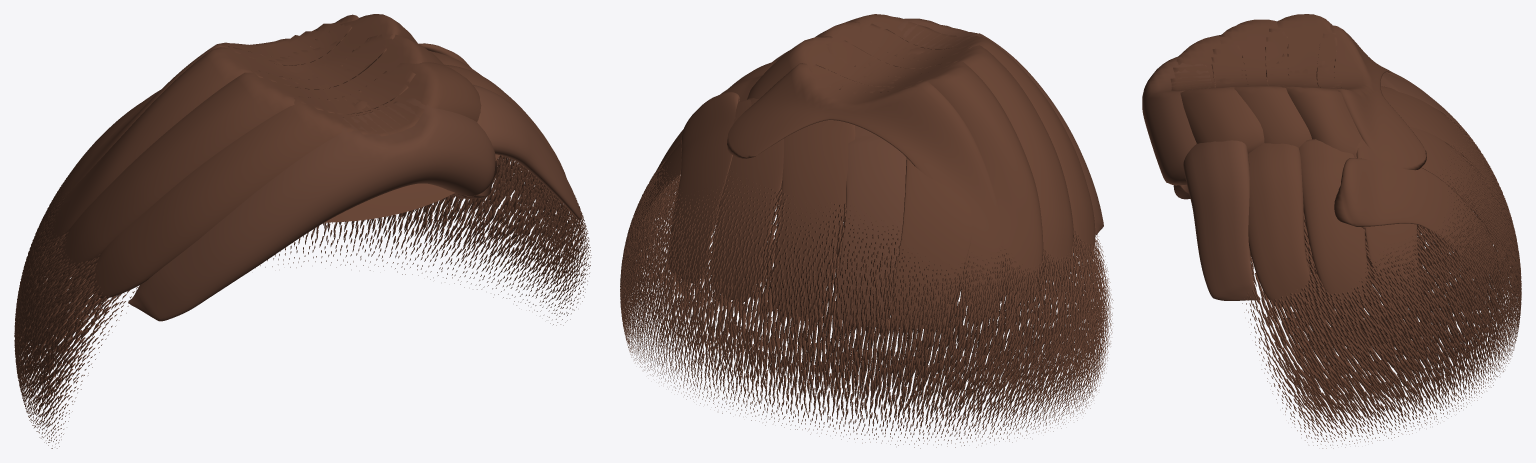
Rendered from Masculine-taper-cowboy254-hair.glb.
The picture shows the model from 3 angles, left to right: view 1: azimuth 30°, elevation 25°; view 2: azimuth 150°, elevation 25°; view 3: azimuth 270°, elevation 25°; orthographic projection. The views are drawn at different scales.
Visible parts, largest first — view 1: 226 hair / Hair252 / sculpted locks, 226 hair / Hair252 / gentle tonal variation, 226 hair / Hair254 / rooted short groom; view 2: 226 hair / Hair252 / sculpted locks, 226 hair / Hair254 / rooted short groom, 226 hair / Hair252 / gentle tonal variation; view 3: 226 hair / Hair252 / sculpted locks, 226 hair / Hair254 / rooted short groom, 226 hair / Hair252 / gentle tonal variation.
Part boxes in pixels (<box>): 226 hair / Hair252 / sculpted locks: <box>37,14,565,298</box>; 226 hair / Hair252 / gentle tonal variation: <box>128,84,581,321</box>; 226 hair / Hair254 / rooted short groom: <box>14,154,591,448</box>; 226 hair / Hair252 / sculpted locks: <box>640,14,1095,329</box>; 226 hair / Hair254 / rooted short groom: <box>620,156,1113,448</box>; 226 hair / Hair252 / gentle tonal variation: <box>772,18,1103,326</box>; 226 hair / Hair252 / sculpted locks: <box>1170,14,1507,309</box>; 226 hair / Hair254 / rooted short groom: <box>1242,108,1521,448</box>; 226 hair / Hair252 / gentle tonal variation: <box>1142,56,1470,300</box>.
Size of the model in its own units: 0.9716 by 0.639 by 0.7405.
